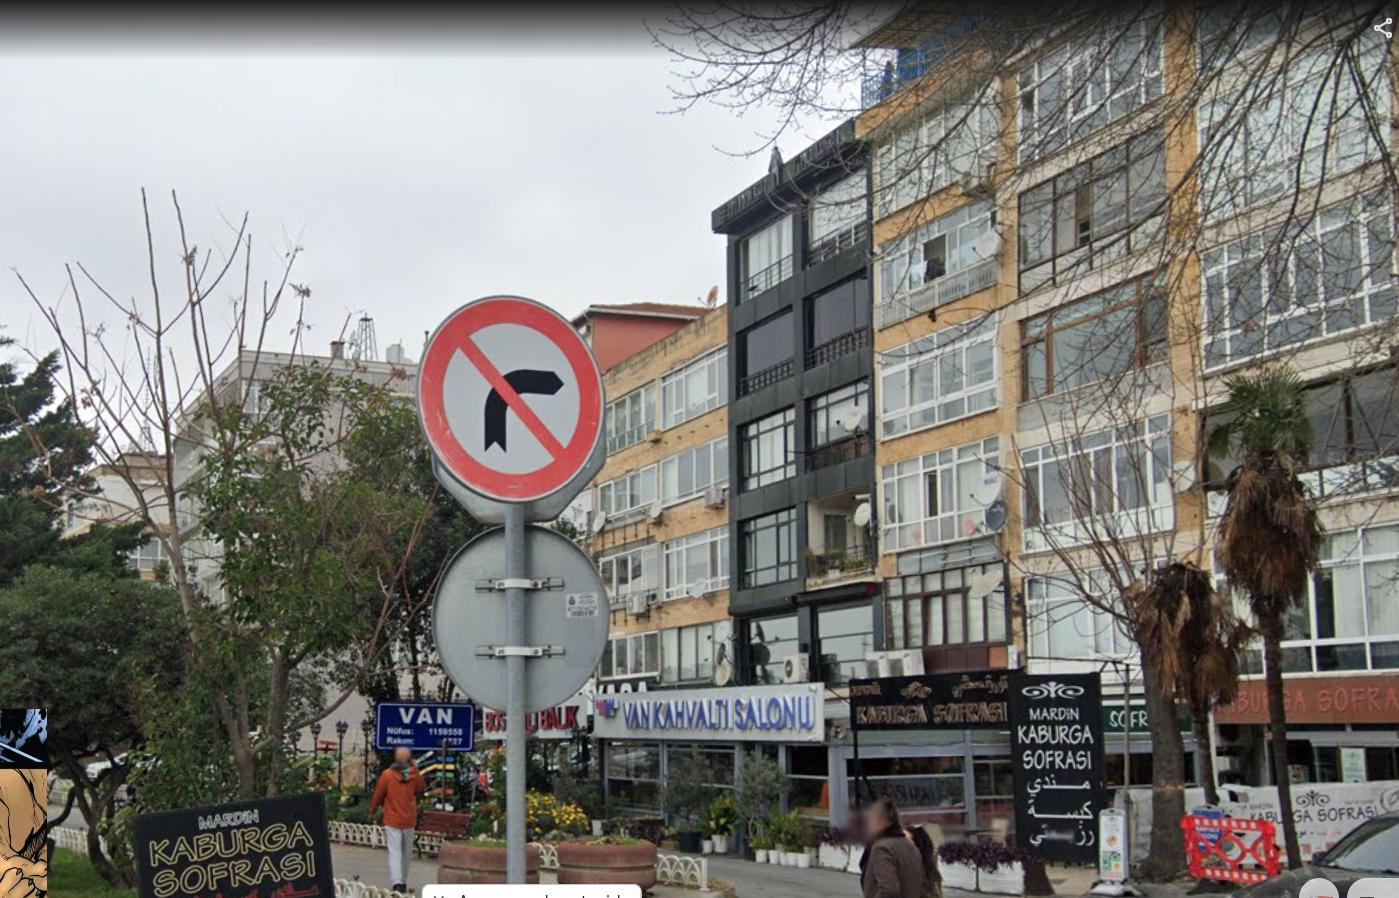leftturnsareforbidden: (435, 303, 595, 492)
